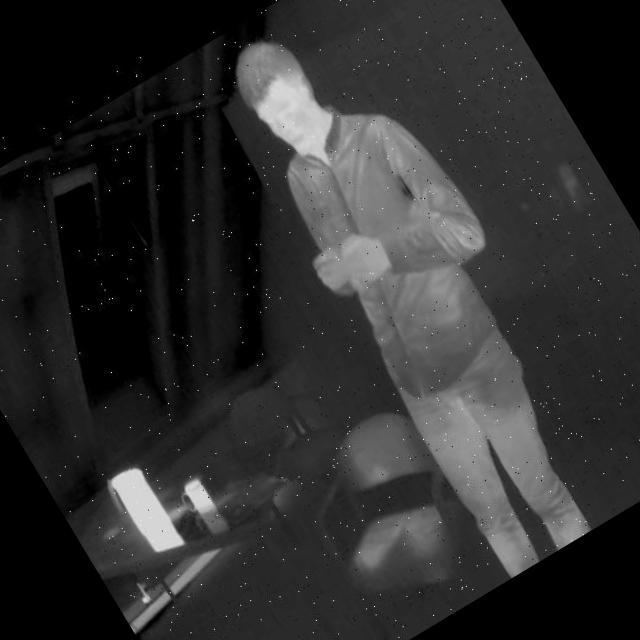person: (183, 0, 640, 589)
